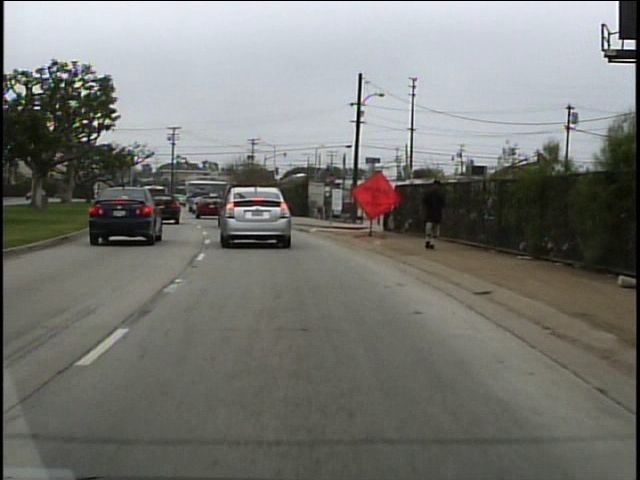person: (416, 175, 450, 257)
